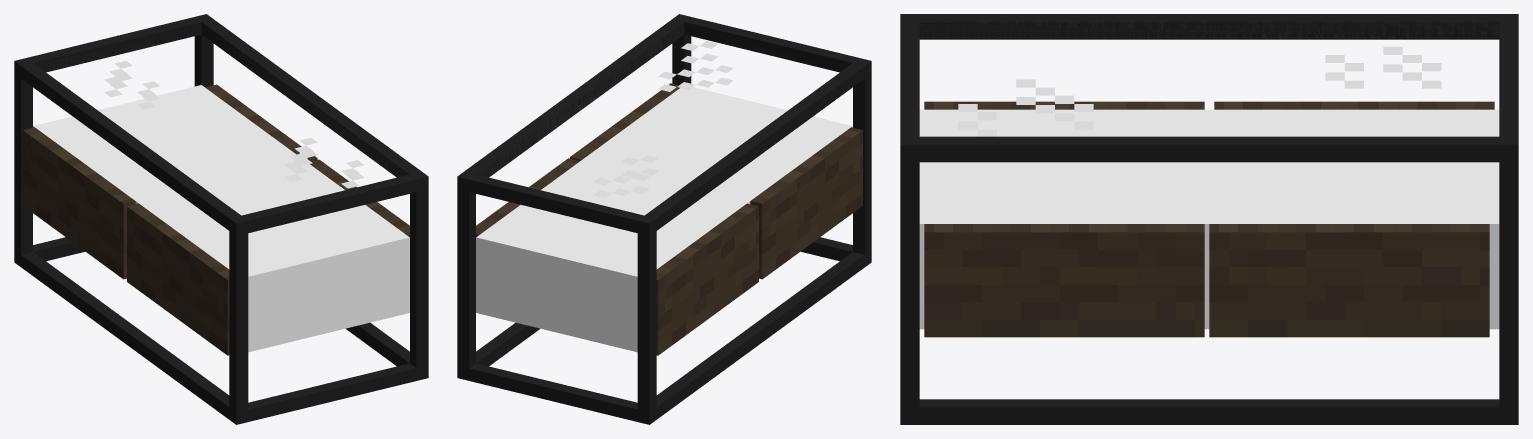
Rendered from coffee_table_glass.gltf.
The picture shows the model from 3 angles, left to right: view 1: azimuth 30°, elevation 25°; view 2: azimuth 150°, elevation 25°; view 3: azimuth 270°, elevation 25°; orthographic projection. The views are drawn at different scales.
Parts seen in each view (by area): view 1: cube (×4); view 2: cube (×4); view 3: cube (×4).
Part boxes in pixels (x1,y1,x2,y2): cube (×4): (14,14,428,424); cube (×4): (457,14,871,424); cube (×4): (900,14,1518,424).
Bounding box in the file's own units: 10 × 10 × 20.
Materials: 5 (4 with a texture image).
